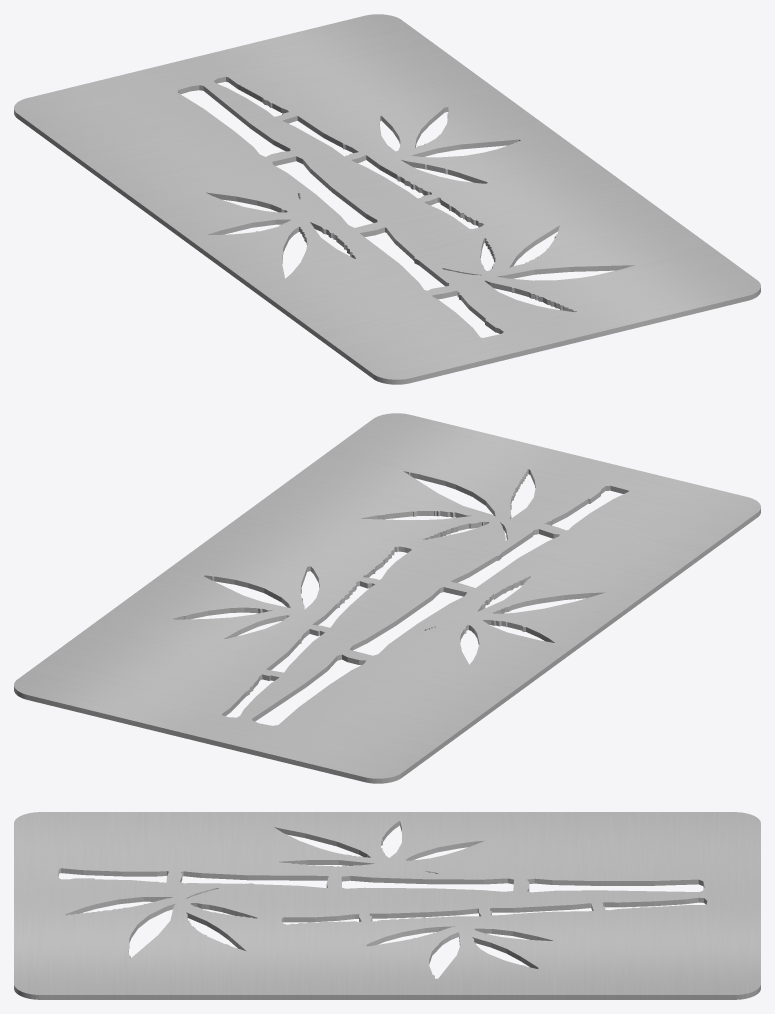
Rendered from bamboo_steel_stencil.glb.
The picture shows the model from 3 angles, top to bottom: view 1: azimuth 30°, elevation 25°; view 2: azimuth 150°, elevation 25°; view 3: azimuth 270°, elevation 25°; orthographic projection. The views are drawn at different scales.
Parts seen in each view (by area): view 1: world; view 2: world; view 3: world.
Part boxes in pixels (x1,y1,x2,y2): world: (14, 14, 760, 384); world: (14, 413, 760, 783); world: (14, 812, 760, 999).
Size of the model in its own units: 0.1935 by 0.0024 by 0.3339.
Materials: 1 (1 with a texture image).
